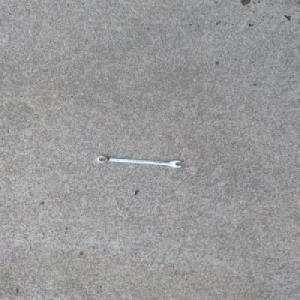Wrench: (95, 155, 183, 168)
